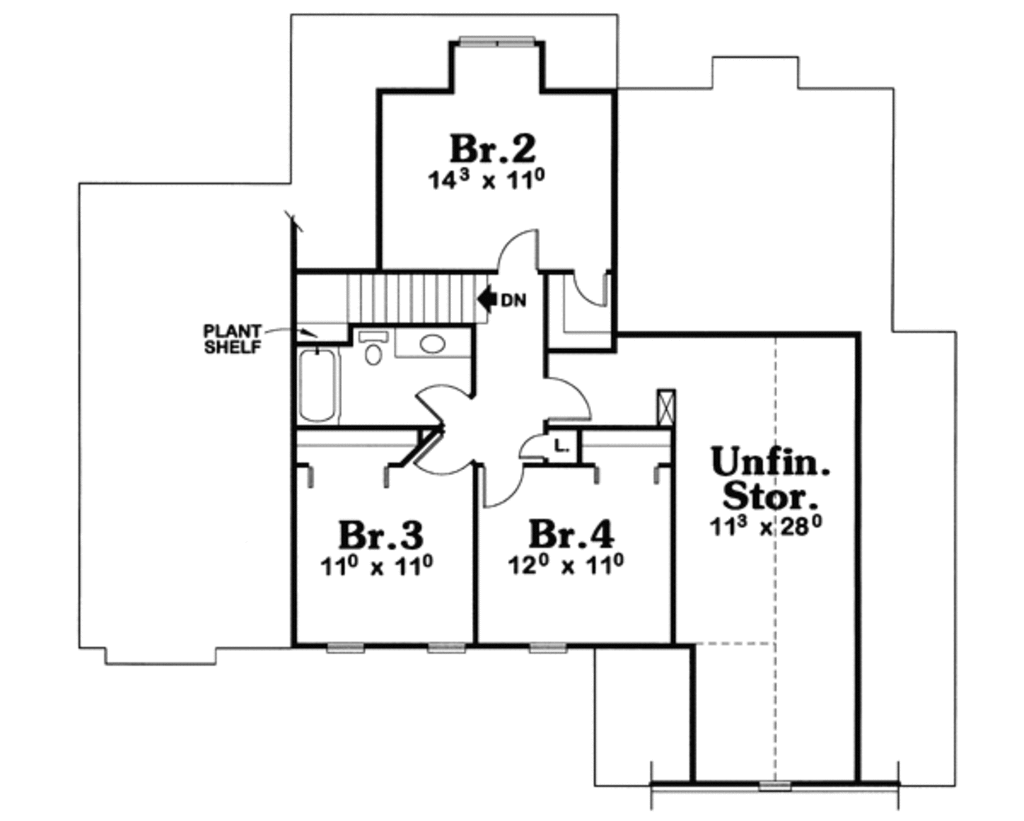door: (410, 377, 470, 427), (409, 429, 471, 476), (541, 374, 594, 425), (482, 462, 527, 514), (498, 226, 543, 271), (569, 267, 612, 314), (510, 428, 548, 464)
large_sink: (353, 324, 392, 369)
small_sink: (394, 324, 473, 364)
stairs: (292, 268, 530, 328)
tub: (292, 339, 347, 429)
window: (457, 30, 539, 53), (320, 637, 366, 660), (420, 638, 467, 660), (523, 640, 570, 660), (750, 778, 797, 794)
